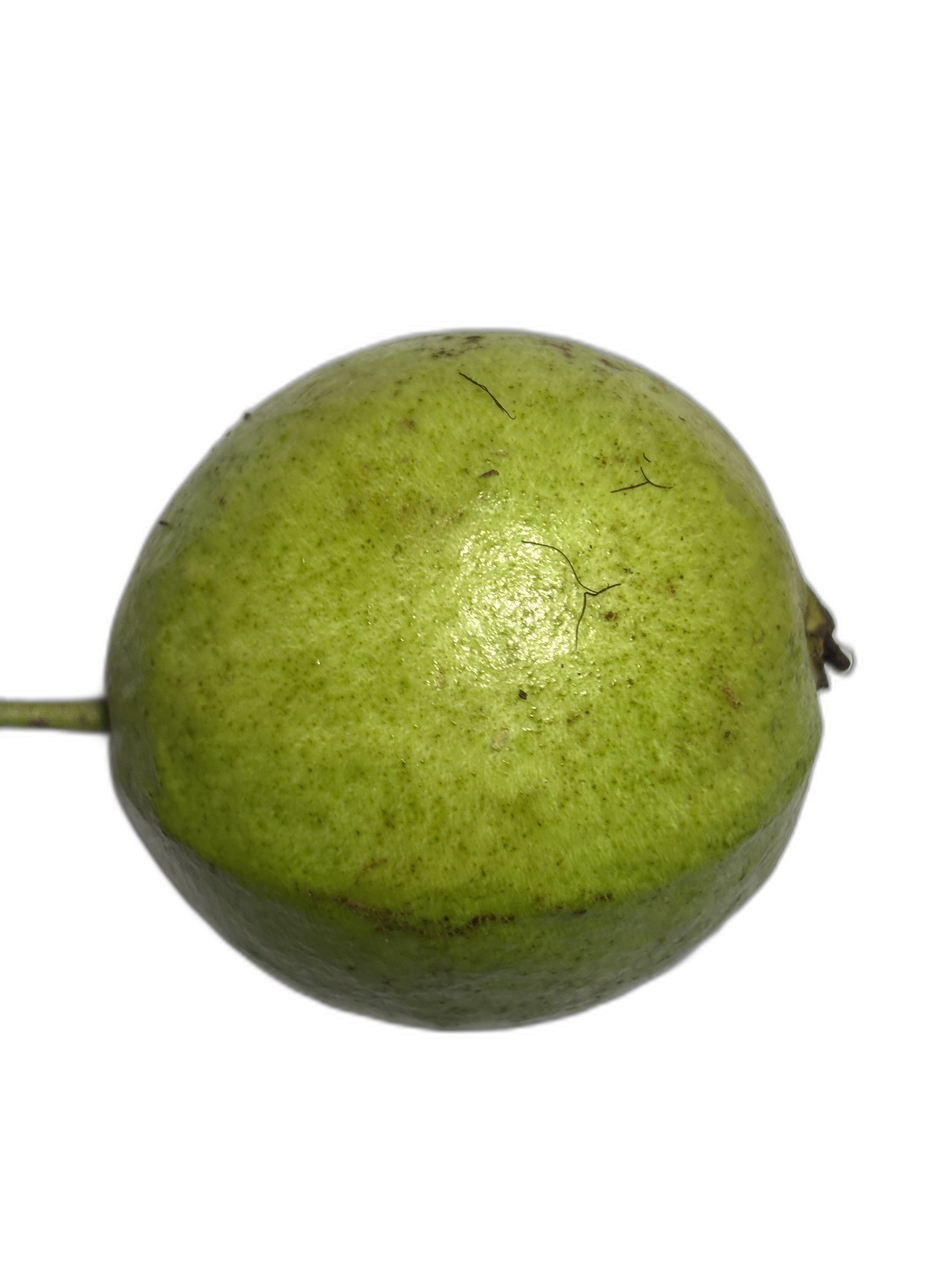guava: (0, 0, 802, 1135)
